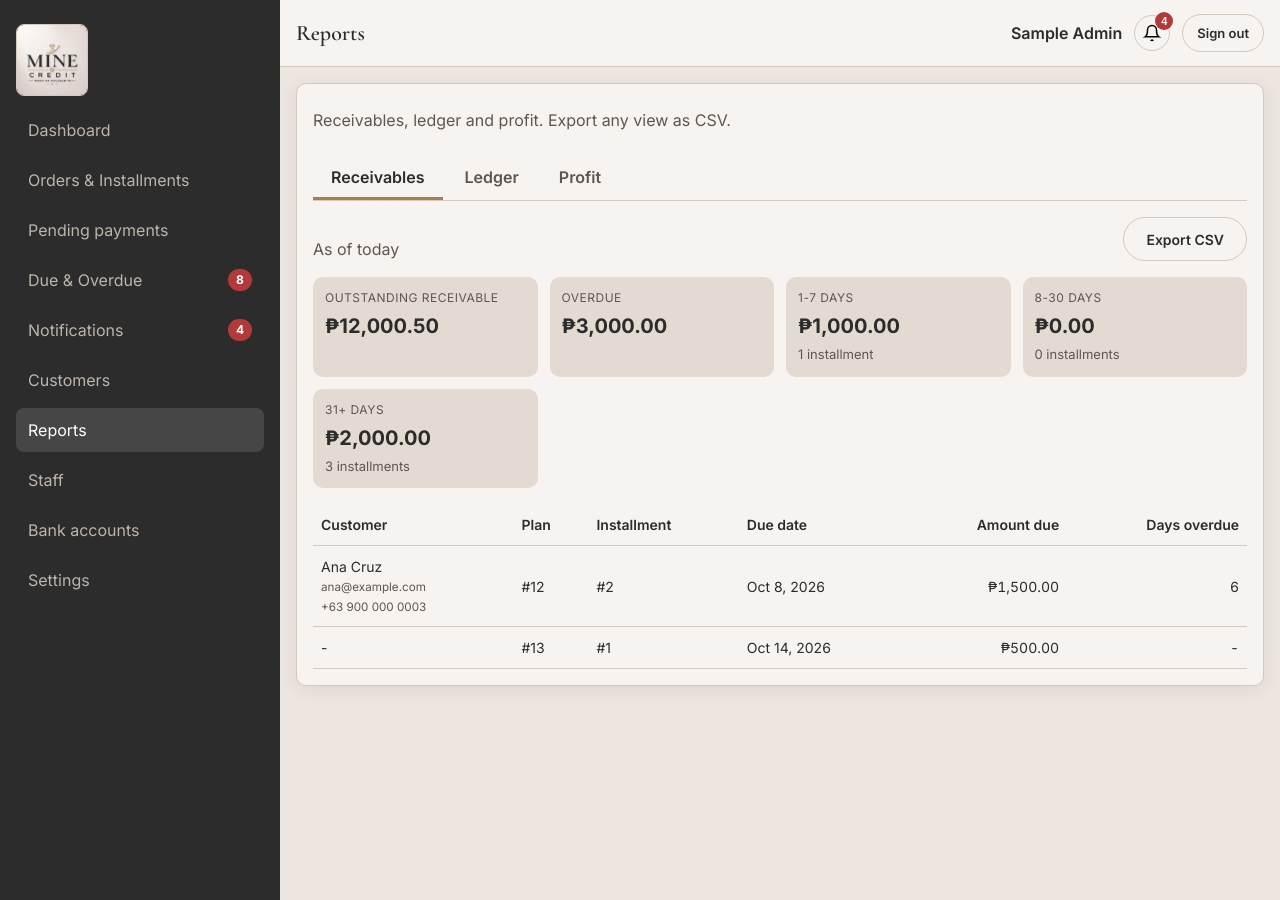
Scenario: admin reports page as admin › shows a generic message when the export fails with a server error
Check: the text "Ana Cruz" is shown, box [321,558,382,575]
Click the button "Export CSV".
click(1185, 239)  # box [1123,217,1247,261]
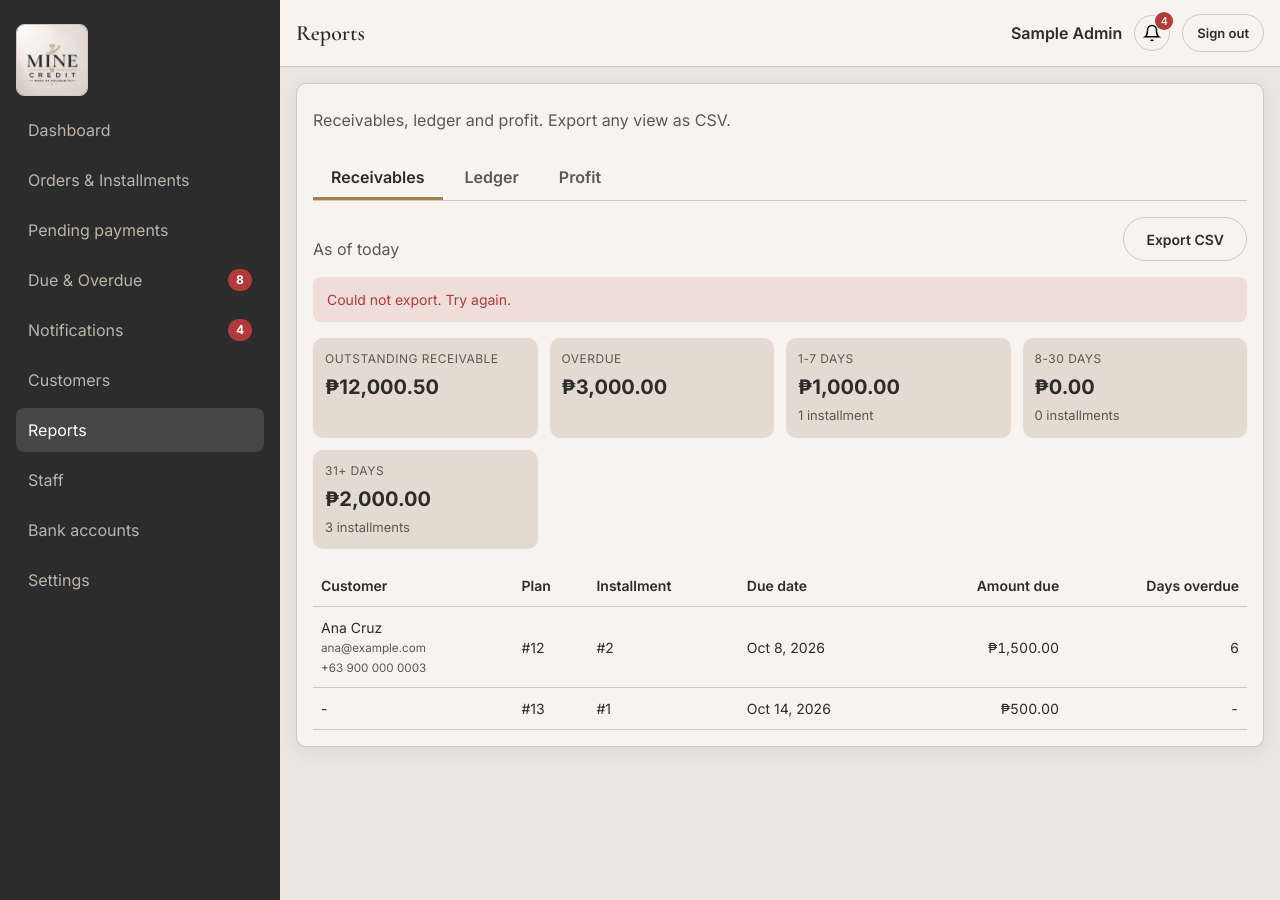
Check: the text "Could not export. Try again." is shown, box [313,277,1247,322]
